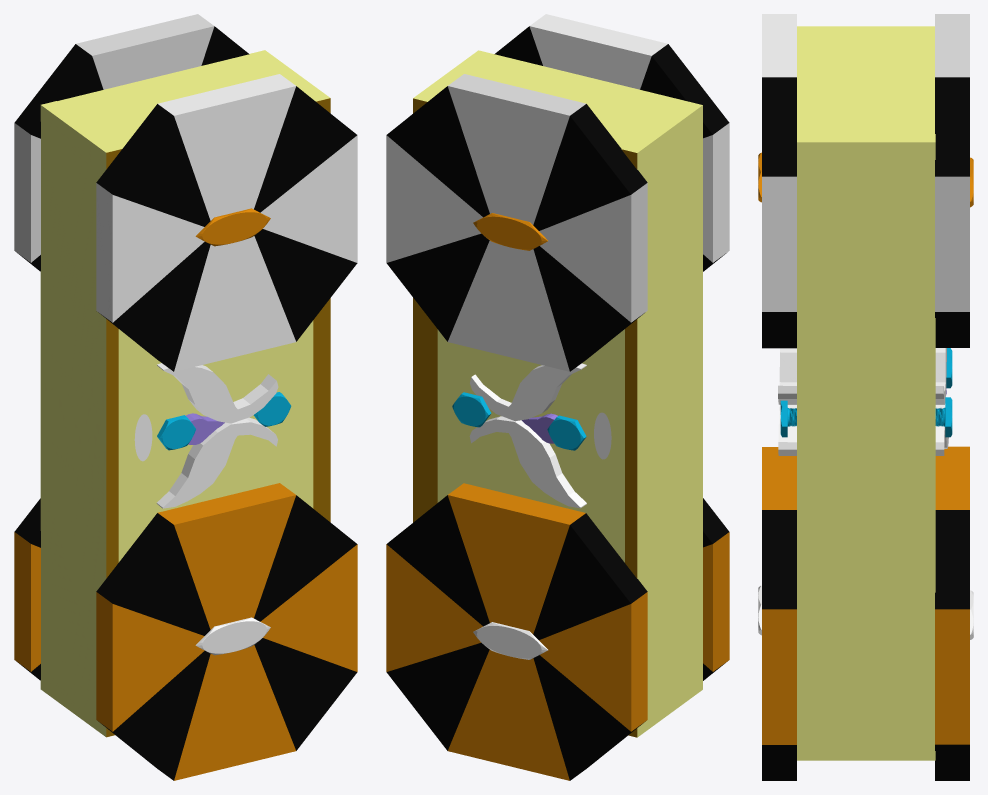
The model's file is power up juuump.fbx.
3 renders of one model, left to right at view 1: azimuth 30°, elevation 25°; view 2: azimuth 150°, elevation 25°; view 3: azimuth 270°, elevation 25°, orthographic. The views are drawn at different scales.
Visible parts, largest first — view 1: Cube, Cube.002, Cube.004, Cube.009, Cube.010, Cube.001, Cube.003, Bolt.001, Bolt.003, Circle, Cylinder; view 2: Cube, Cube.009, Cube.010, Cube.002, Cube.004, Cube.005, Cube.006, Bolt.002, Bolt.004, Circle.001; view 3: Cube, Cube.002, Cube.009, Cube.010, Cube.004, Cube.003, Cube.006, Cube.001, Cube.005.
Part boxes in pixels (box(x1,y1,x2,y2)): Cube: box(40, 50, 330, 737); Cube.002: box(96, 74, 357, 371); Cube.004: box(96, 483, 357, 780); Cube.009: box(14, 14, 249, 271); Cube.010: box(14, 498, 40, 680); Cube.001: box(156, 417, 277, 508); Cube.003: box(157, 363, 278, 423); Bolt.001: box(195, 208, 270, 246); Bolt.003: box(195, 617, 270, 655); Circle: box(134, 414, 152, 461); Cylinder: box(185, 413, 224, 444); Cube: box(413, 50, 702, 737); Cube.009: box(386, 74, 647, 371); Cube.010: box(386, 483, 647, 780); Cube.002: box(494, 14, 729, 271); Cube.004: box(703, 498, 729, 680); Cube.005: box(469, 416, 586, 508); Cube.006: box(470, 363, 586, 421); Bolt.002: box(473, 213, 547, 250); Bolt.004: box(473, 622, 547, 659); Circle.001: box(594, 412, 611, 459); Cube: box(780, 26, 952, 760); Cube.002: box(762, 14, 796, 348); Cube.009: box(935, 14, 969, 347); Cube.010: box(935, 446, 969, 780); Cube.004: box(762, 447, 796, 780); Cube.003: box(778, 348, 796, 404); Cube.006: box(935, 348, 946, 404); Cube.001: box(778, 405, 796, 455); Cube.005: box(935, 404, 948, 455).
Size of the model in its own units: 112 by 290 by 80.49.
